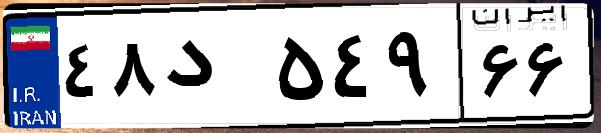4: (330, 28, 385, 110), (57, 26, 110, 100)
5: (270, 28, 330, 110)
6: (475, 38, 525, 113), (525, 38, 570, 115)
8: (110, 28, 158, 98)
9: (385, 28, 445, 110)
د: (158, 20, 270, 120)
